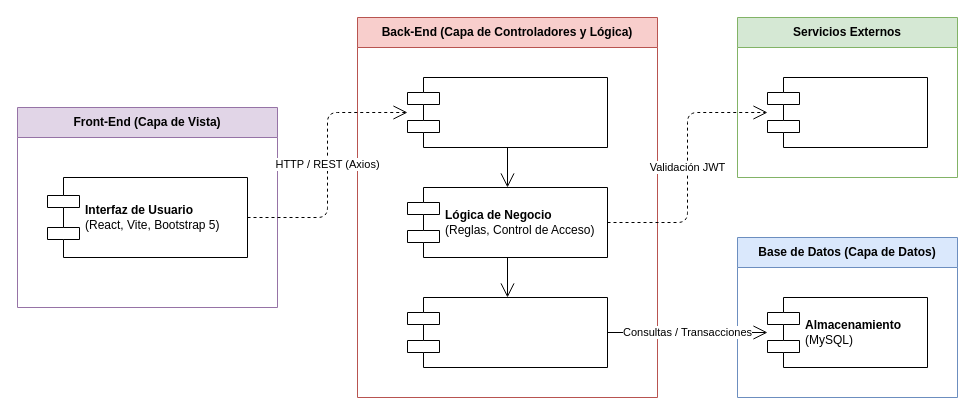
Image size: 975x415. Some labels were removed from this diagram. The centre of each missing label's shape, as x and y in pixels:
Acceso a Datos (Prisma ORM): the point at 507,332
Autenticación (Auth0): the point at 847,112
Controladores / API REST (Express, Node.js): the point at 507,112
